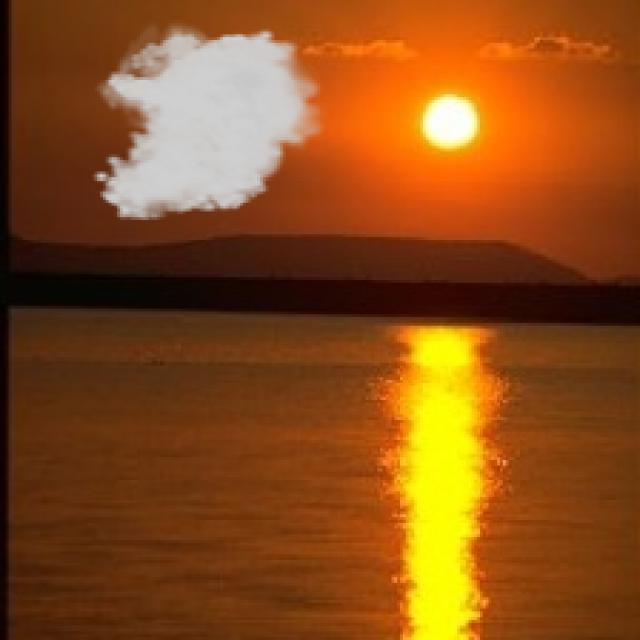Smoke: (91, 17, 332, 223)
